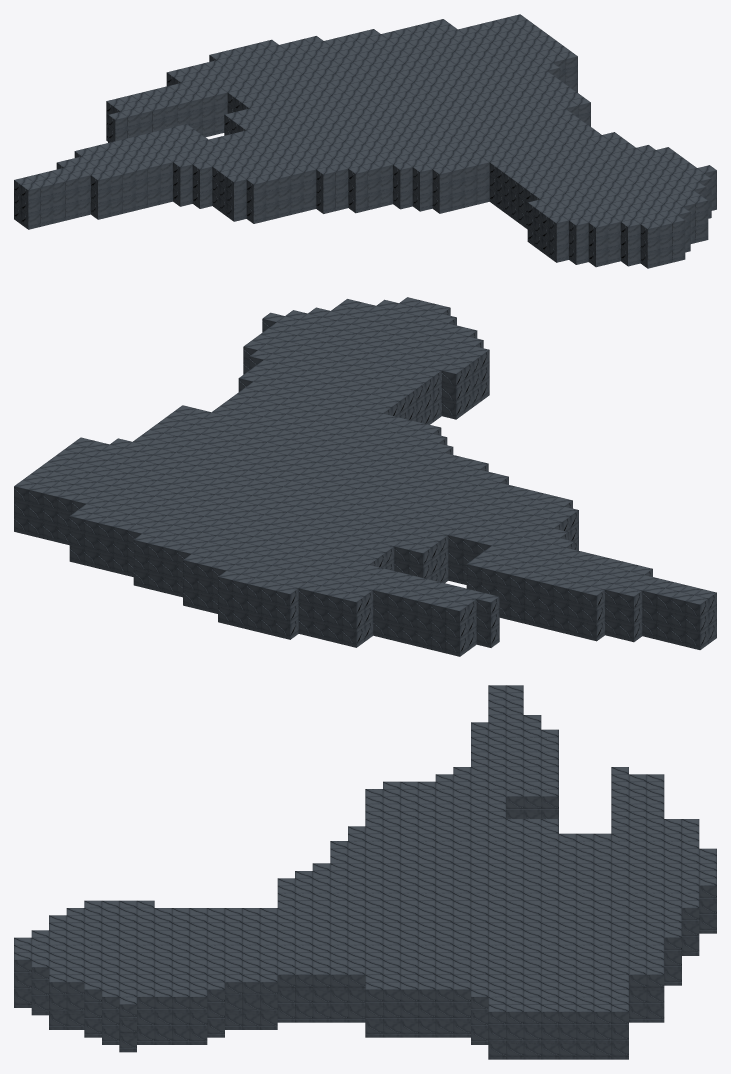
Rendered from roofSix.fbx.
3 views of the same model, one above another, from view 1: azimuth 30°, elevation 25°; view 2: azimuth 150°, elevation 25°; view 3: azimuth 270°, elevation 25° (orthographic). The views are drawn at different scales.
Visible parts, largest first — view 1: RoofTile_1485; view 2: RoofTile_1485; view 3: RoofTile_1485.
Part boxes in pixels (<box>): RoofTile_1485: <box>14,14,716,268</box>; RoofTile_1485: <box>14,297,716,656</box>; RoofTile_1485: <box>14,685,716,1059</box>.
Size of the model in its own units: 4400 by 300 by 4000.
